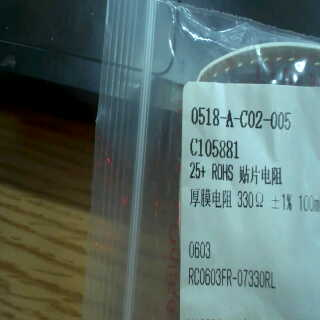330R: (236, 188, 267, 208)
